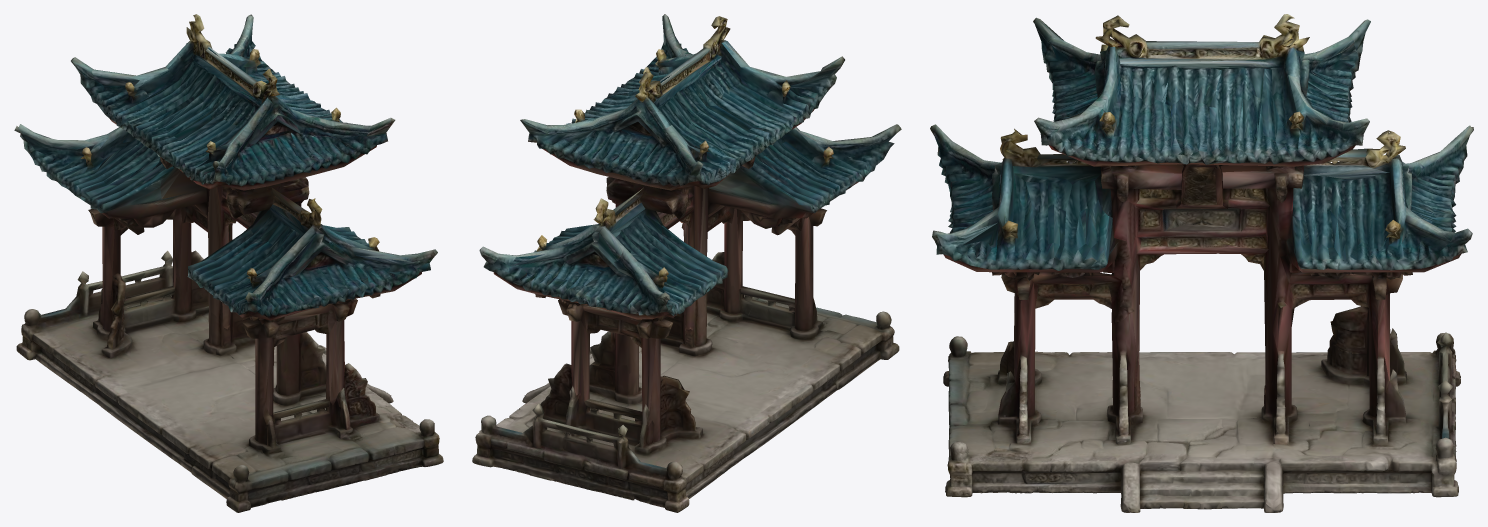
The model's file is gate.glb.
3 views of the same model, side by side, from view 1: azimuth 30°, elevation 25°; view 2: azimuth 150°, elevation 25°; view 3: azimuth 270°, elevation 25° (orthographic). The views are drawn at different scales.
Parts seen in each view (by area): view 1: H30 gate render-only LOD; view 2: H30 gate render-only LOD; view 3: H30 gate render-only LOD.
Part boxes in pixels (bbox=[...]): H30 gate render-only LOD: bbox=[14, 14, 443, 512]; H30 gate render-only LOD: bbox=[472, 14, 901, 512]; H30 gate render-only LOD: bbox=[930, 14, 1473, 512].
Bounding box in the file's own units: 0.5678 × 0.8482 × 0.9798.
1 material, 1 textured.
